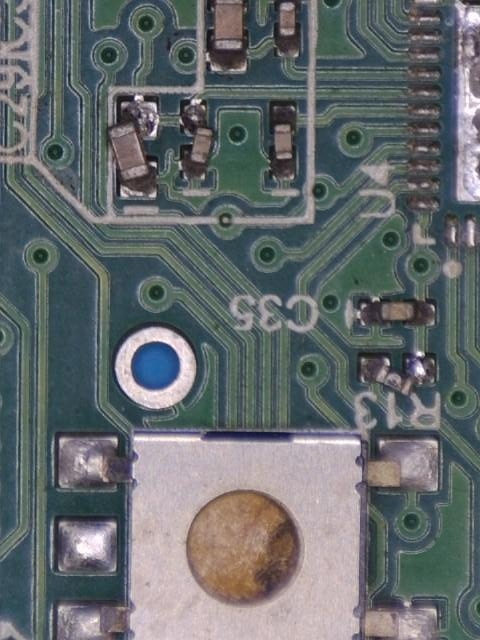pcb_defect: (107, 101, 158, 200), (359, 355, 437, 396), (183, 104, 213, 180)
